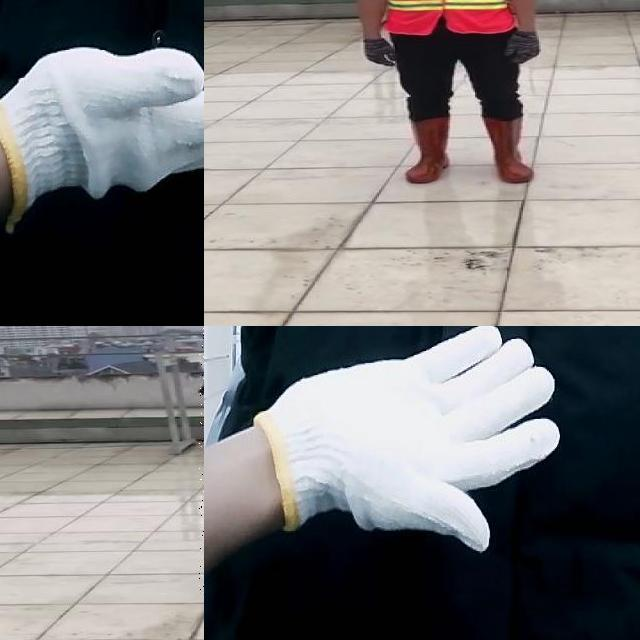BOOTS: (479, 115, 541, 184), (402, 116, 452, 183)
GLOVE: (249, 326, 563, 557), (0, 48, 204, 236), (503, 28, 541, 64), (362, 36, 398, 68)
VEST: (372, 0, 513, 35)
